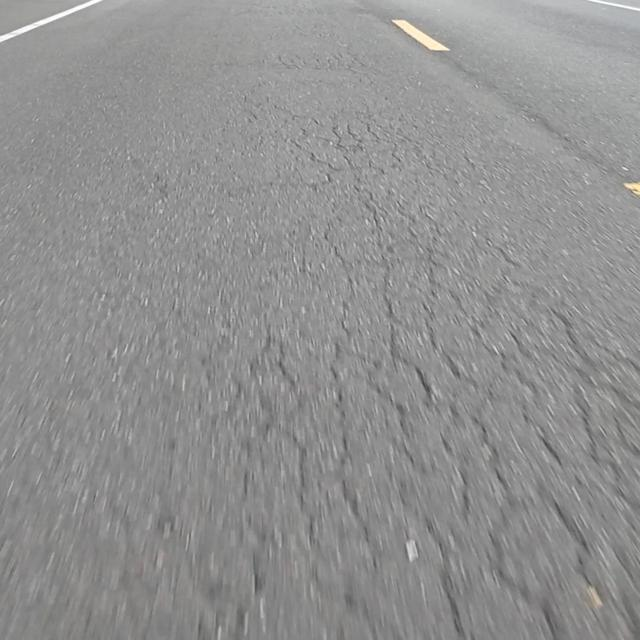Retak Buaya: (229, 308, 640, 640)
